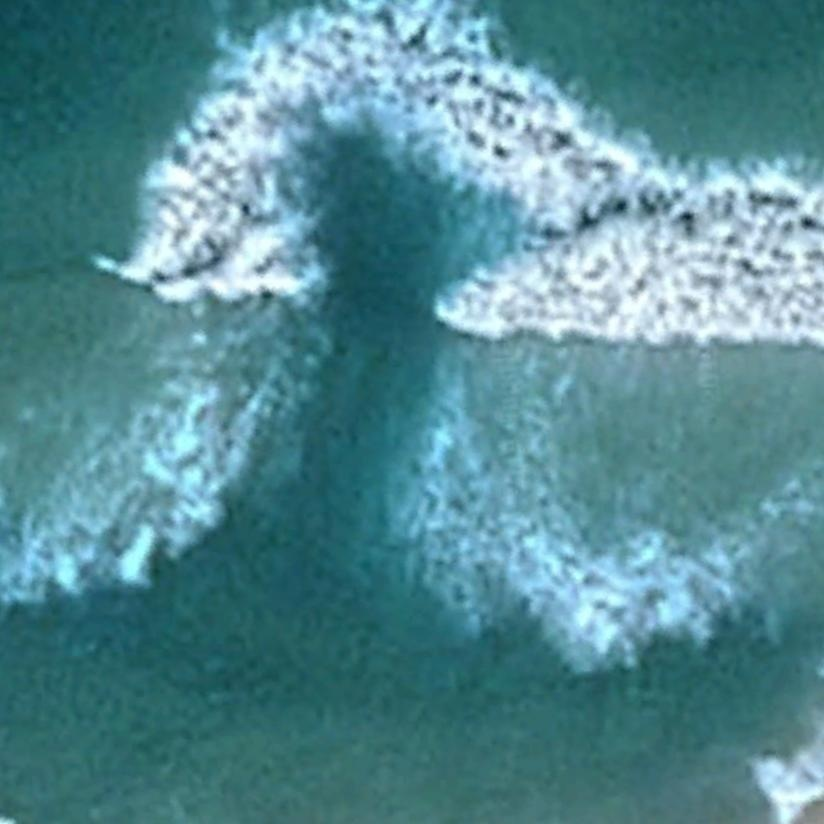rip_current: (150, 72, 557, 631)
